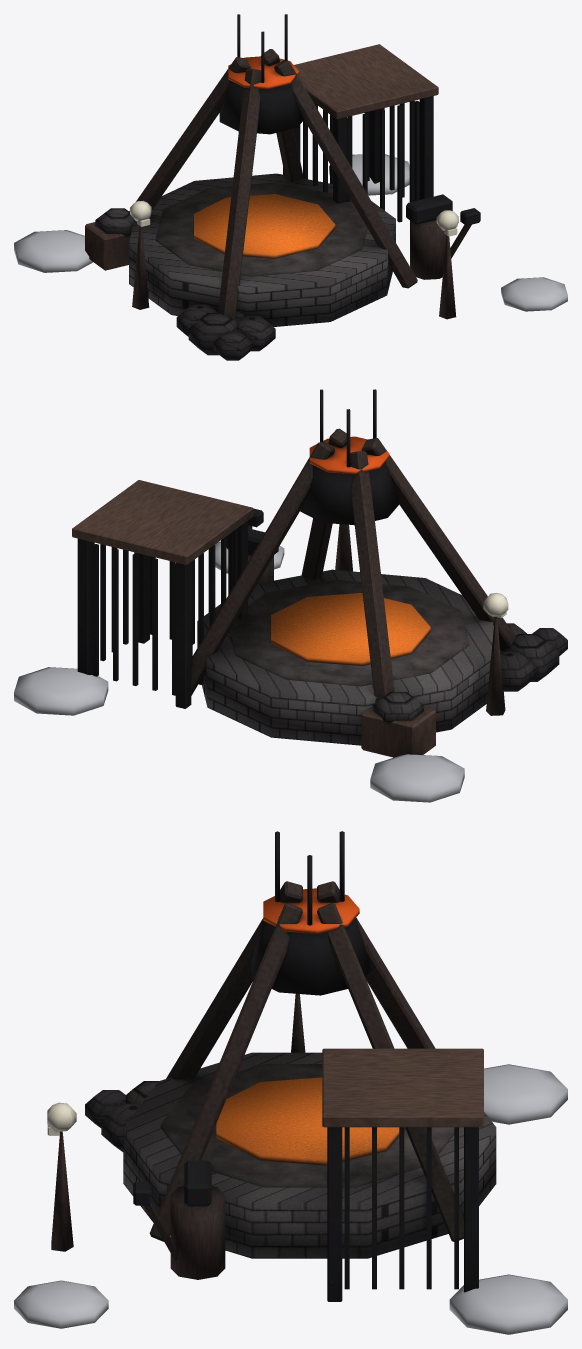
File: asch_workshop.glb
3 views of the same model, one above another, from view 1: azimuth 30°, elevation 25°; view 2: azimuth 150°, elevation 25°; view 3: azimuth 270°, elevation 25° (orthographic). The views are drawn at different scales.
Visible parts, largest first — view 1: asch_workshop, Schnee; view 2: asch_workshop, Schnee; view 3: asch_workshop, Schnee.
Part boxes in pixels (x1=…): asch_workshop: x1=85, y1=14, x2=480, y2=360; Schnee: x1=14, y1=154, x2=567, y2=311; asch_workshop: x1=72, y1=389, x2=567, y2=757; Schnee: x1=14, y1=541, x2=464, y2=802; asch_workshop: x1=47, y1=831, x2=496, y2=1301; Schnee: x1=14, y1=1064, x2=567, y2=1334.
Bounding box in the file's own units: 4.95 × 3.22 × 4.46.
2 materials, 1 textured.
